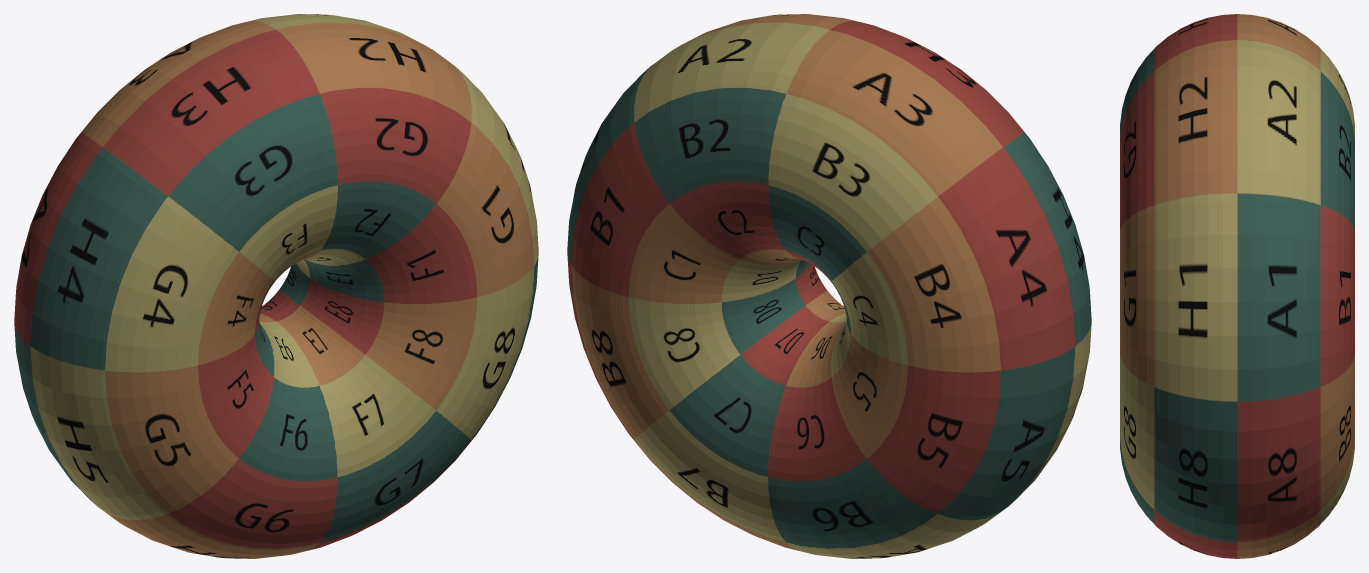
File: texture_torus_R0_r21.glb
3 renders of one model, left to right at view 1: azimuth 30°, elevation 25°; view 2: azimuth 150°, elevation 25°; view 3: azimuth 270°, elevation 25°, orthographic. The views are drawn at different scales.
Visible parts, largest first — view 1: world; view 2: world; view 3: world.
Boxes of the visible parts, box(x1,y1,x2,y2) form: world: box(14, 14, 538, 558); world: box(567, 14, 1091, 558); world: box(1120, 14, 1354, 558).
Bounding box in the file's own units: 17.6 × 17.57 × 7.59.
Materials: 1 (1 with a texture image).
